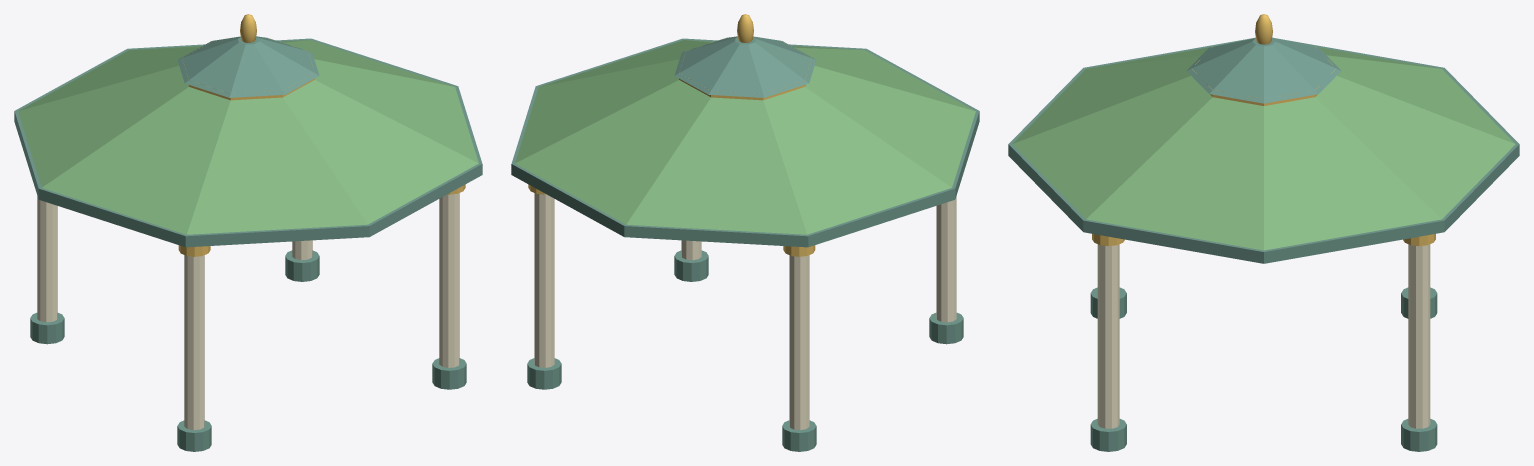
The model's file is garden_pavilion.glb.
3 views of the same model, side by side, from view 1: azimuth 30°, elevation 25°; view 2: azimuth 150°, elevation 25°; view 3: azimuth 270°, elevation 25° (orthographic). The views are drawn at different scales.
Visible parts, largest first — view 1: Roof, Eaves, UpperRoof, PavilionColumn, PavilionColumn.002, PavilionColumn.001, PavilionFoot.002, PavilionFoot.003, PavilionFoot, PavilionFoot.001; view 2: Roof, Eaves, UpperRoof, PavilionColumn.001, PavilionColumn.003, PavilionColumn, PavilionFoot.003, PavilionFoot.002, PavilionFoot.001, PavilionFoot; view 3: Roof, Eaves, UpperRoof, PavilionColumn.002, PavilionColumn.003, PavilionFoot.002, PavilionFoot.003.
Boxes of the visible parts, bbox=[...] form: Roof: bbox=[18, 40, 478, 234]; Eaves: bbox=[14, 38, 482, 247]; UpperRoof: bbox=[177, 36, 319, 97]; PavilionColumn: bbox=[184, 255, 204, 430]; PavilionColumn.002: bbox=[439, 193, 459, 367]; PavilionColumn.001: bbox=[37, 196, 57, 322]; PavilionFoot.002: bbox=[432, 358, 466, 389]; PavilionFoot.003: bbox=[285, 250, 319, 281]; PavilionFoot: bbox=[177, 420, 211, 451]; PavilionFoot.001: bbox=[30, 312, 64, 344]; Roof: bbox=[515, 40, 975, 234]; Eaves: bbox=[511, 38, 979, 247]; UpperRoof: bbox=[674, 36, 816, 97]; PavilionColumn.001: bbox=[789, 255, 809, 430]; PavilionColumn.003: bbox=[534, 193, 554, 367]; PavilionColumn: bbox=[936, 196, 956, 322]; PavilionFoot.003: bbox=[527, 358, 561, 389]; PavilionFoot.002: bbox=[674, 250, 708, 281]; PavilionFoot.001: bbox=[782, 420, 816, 451]; PavilionFoot: bbox=[929, 312, 963, 344]; Roof: bbox=[1012, 46, 1515, 250]; Eaves: bbox=[1008, 37, 1519, 263]; UpperRoof: bbox=[1186, 38, 1341, 103]; PavilionColumn.002: bbox=[1097, 244, 1119, 428]; PavilionColumn.003: bbox=[1408, 244, 1430, 428]; PavilionFoot.002: bbox=[1090, 418, 1126, 451]; PavilionFoot.003: bbox=[1401, 418, 1437, 451].
Bounding box in the file's own units: 7.9 × 6.22 × 7.9.
